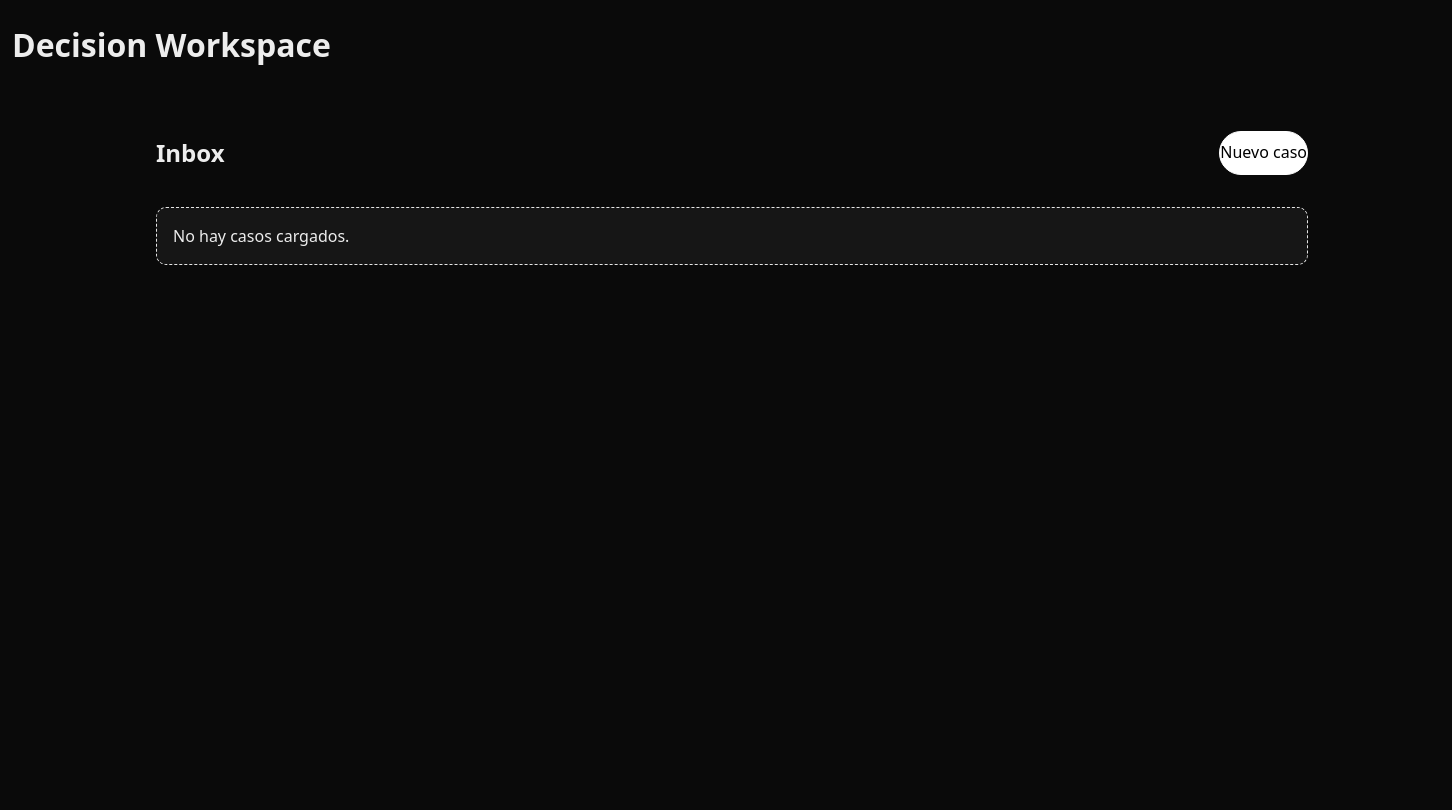
Test case: InboxPage › validates form
Click the button "Nuevo caso" at (1264, 153), box [1219,131,1308,175]
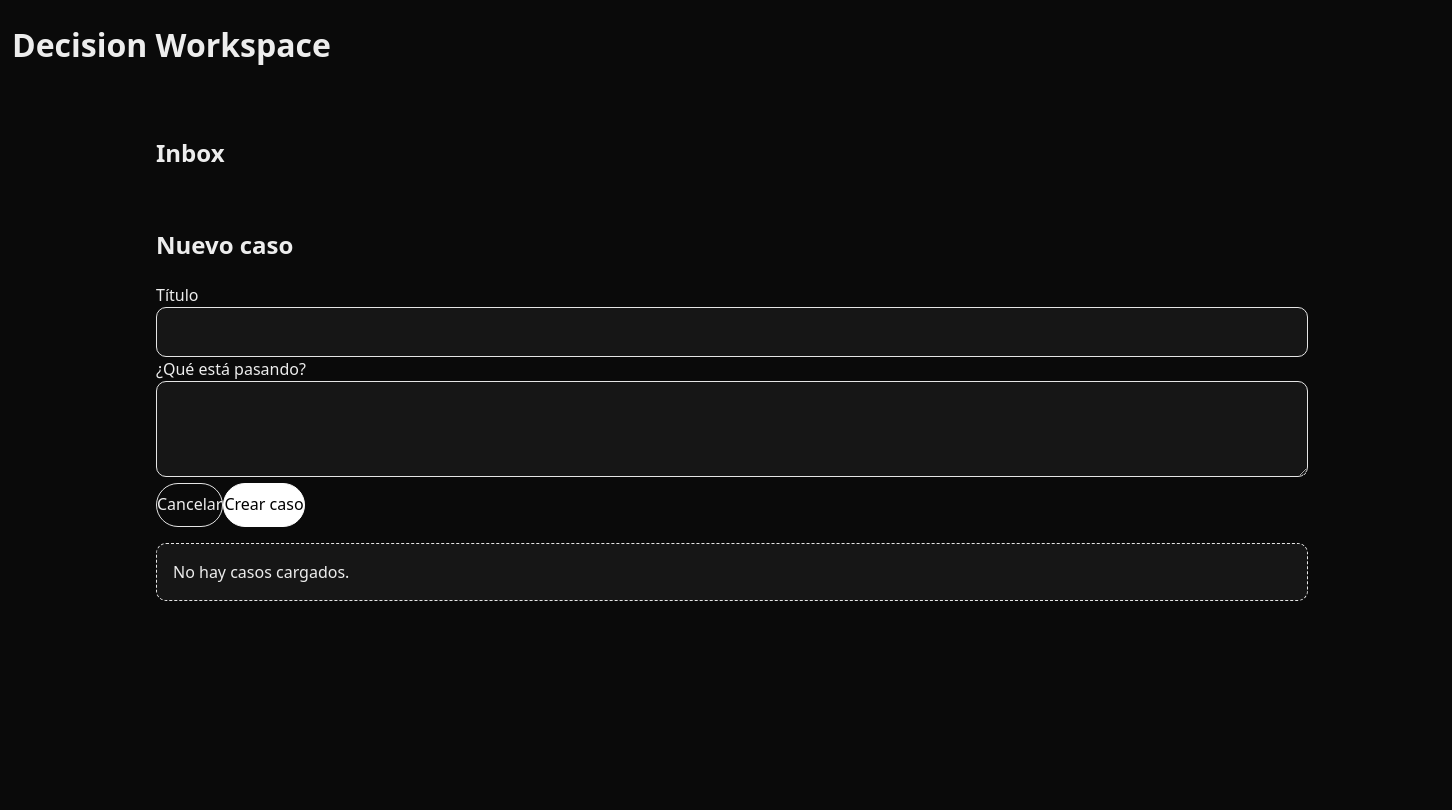
Click the button "Crear caso" at (264, 504), box [223,482,305,526]
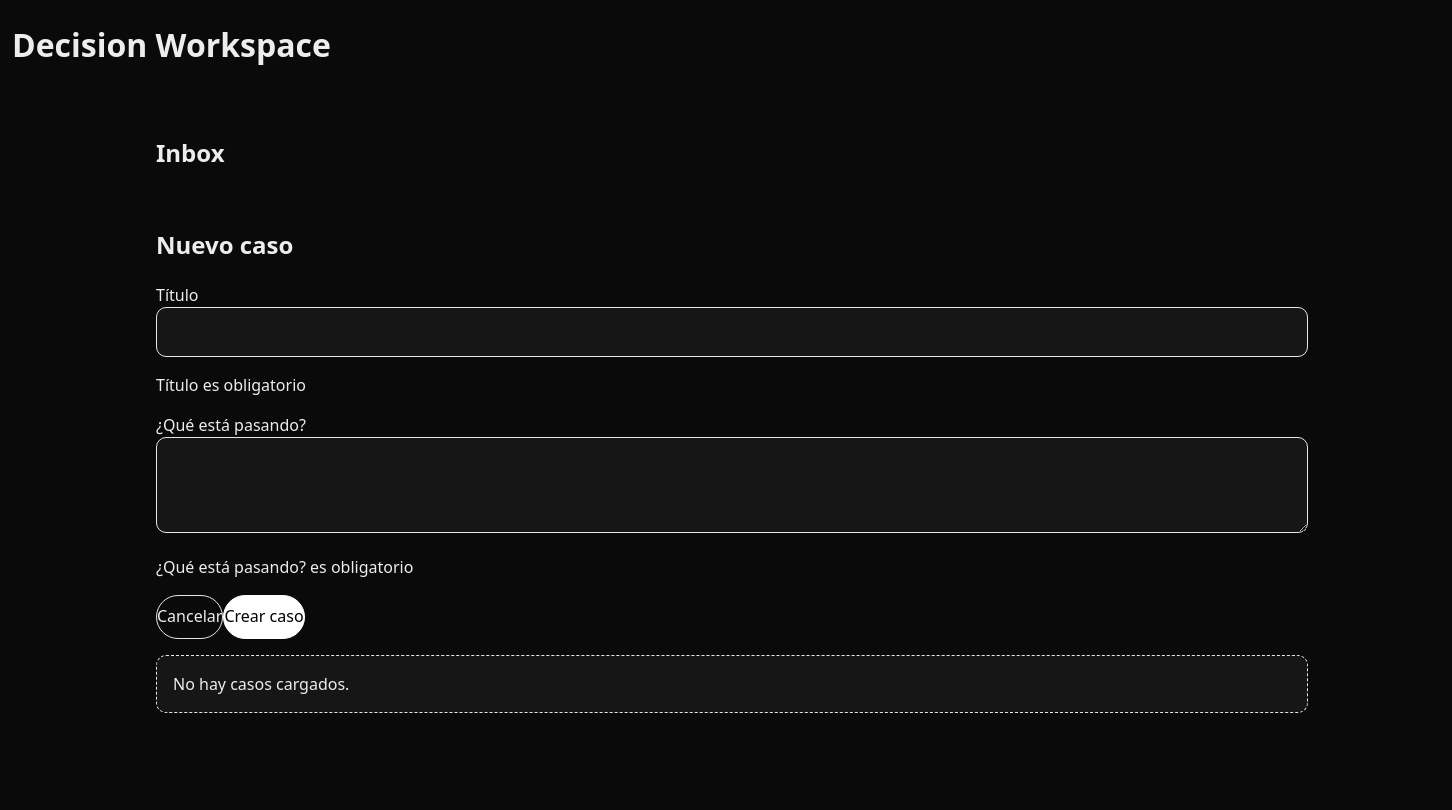
Now the text "Título es obligatorio" is shown, box [156,374,306,396]
Now the text "¿Qué está pasando? es obligatorio" is shown, box [156,556,413,578]
